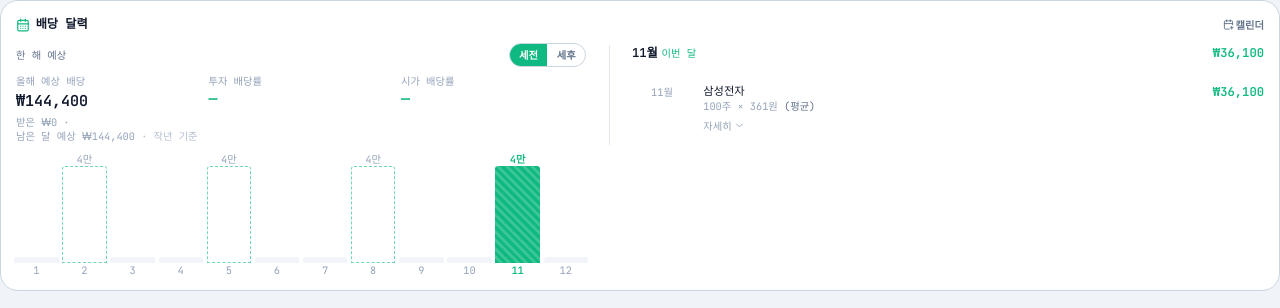
Test: 월별 막대 › 배당월을 적는다 — 분기배당이라도 회사마다 달이 다르다
Expected: the text "올해 예상 배당" is shown, [16,74,85,88]
Click the button named "2월 ₩".
click(84, 215)  # box [62,154,107,275]
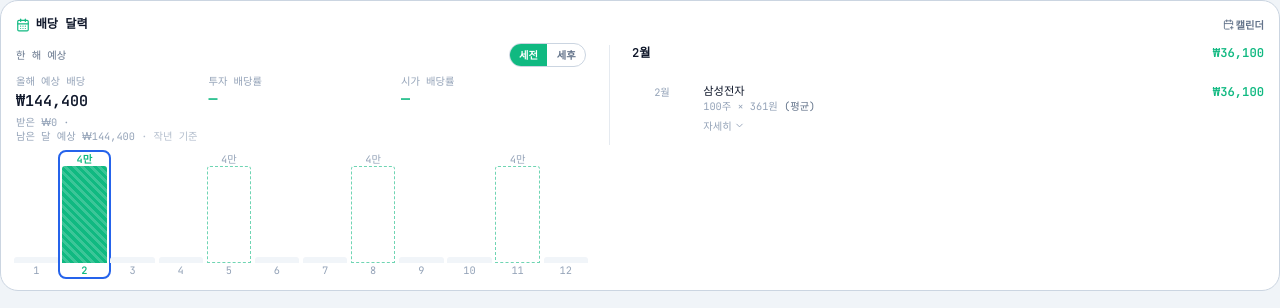
Click the button "자세히".
click(724, 126)  # box [703,118,745,133]
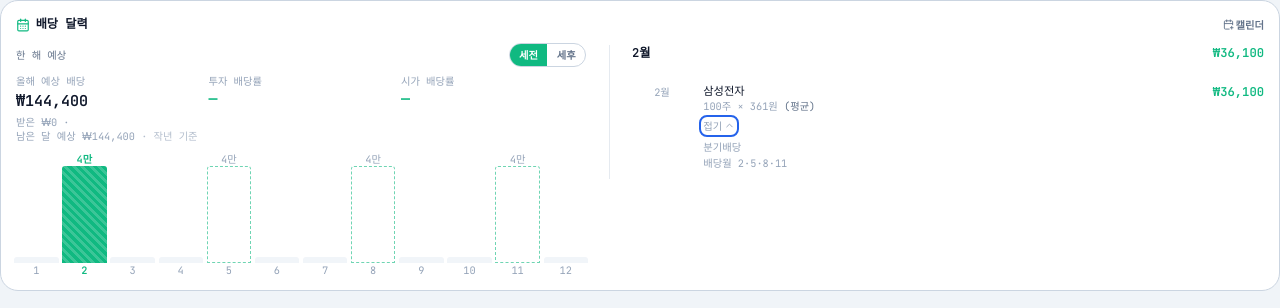
Result: the text "배당월 2·5·8·11" is shown at [703,156,787,170]
